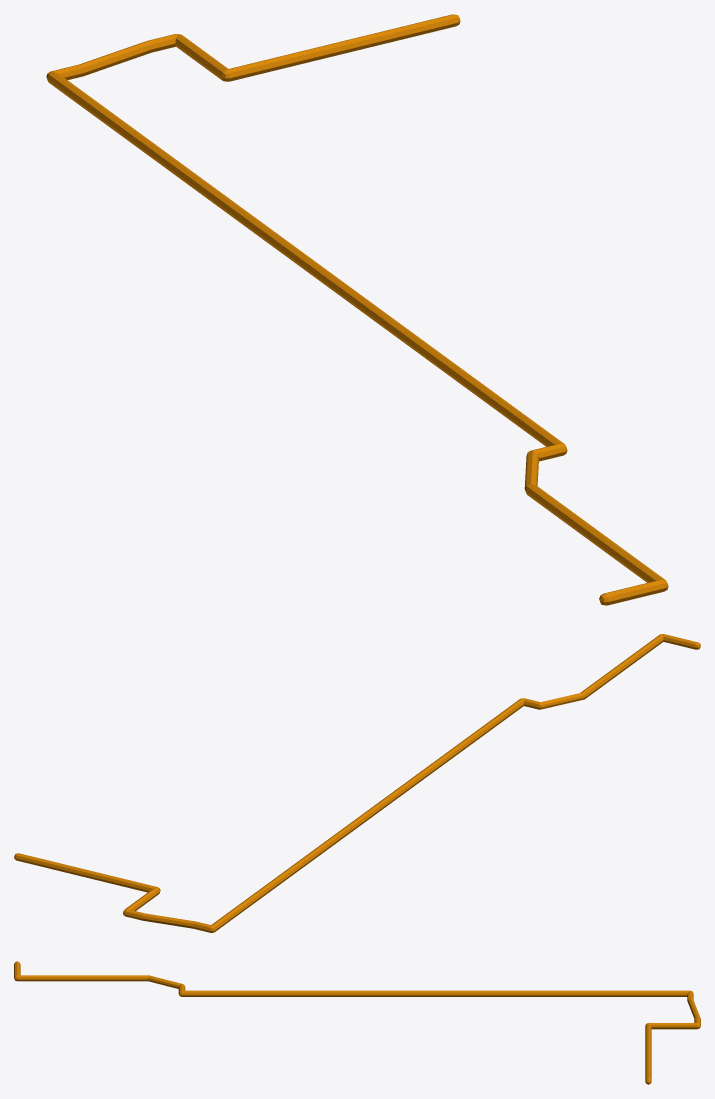
3 views of the same model, one above another, from view 1: azimuth 30°, elevation 25°; view 2: azimuth 150°, elevation 25°; view 3: azimuth 270°, elevation 25° (orthographic). The views are drawn at different scales.
Size of the model in its own units: 865 by 20 by 2094.
